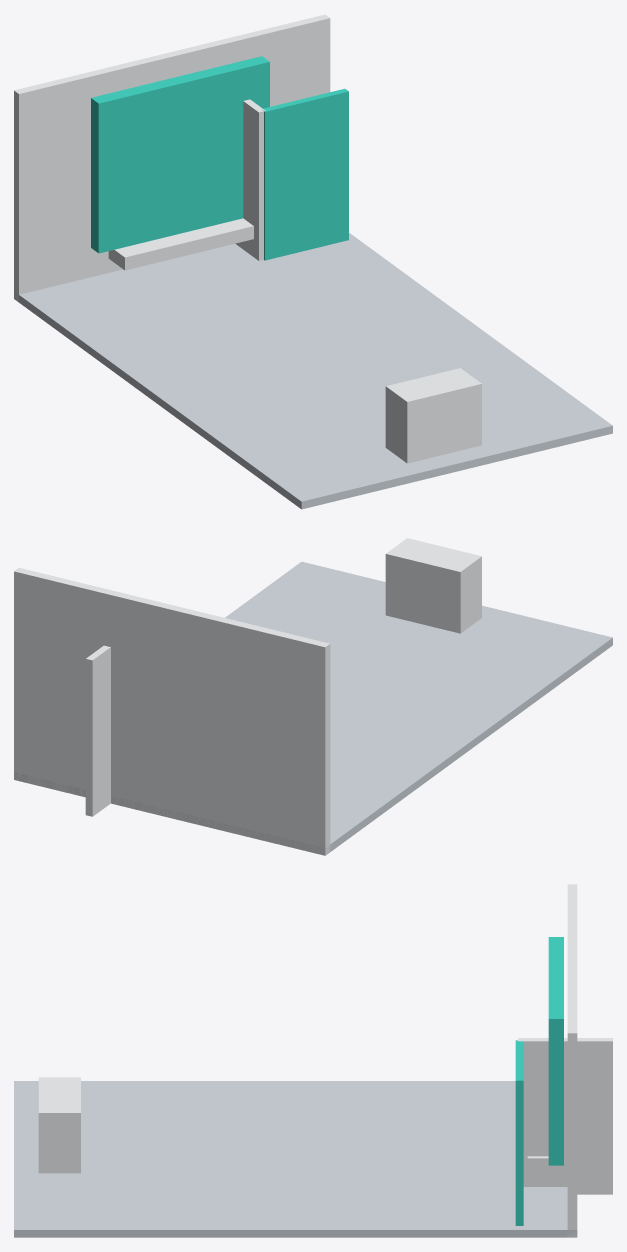
3 renders of one model, top to bottom at view 1: azimuth 30°, elevation 25°; view 2: azimuth 150°, elevation 25°; view 3: azimuth 270°, elevation 25°, orthographic. The views are drawn at different scales.
Visible parts, largest first — view 1: Exhibition Booth Concept; view 2: Exhibition Booth Concept; view 3: Exhibition Booth Concept.
Part boxes in pixels (x1,y1,x2,y2): Exhibition Booth Concept: (14, 14, 612, 509); Exhibition Booth Concept: (14, 538, 612, 855); Exhibition Booth Concept: (14, 884, 612, 1237).
Bounding box in the file's own units: 5 × 3.2 × 8.51.
